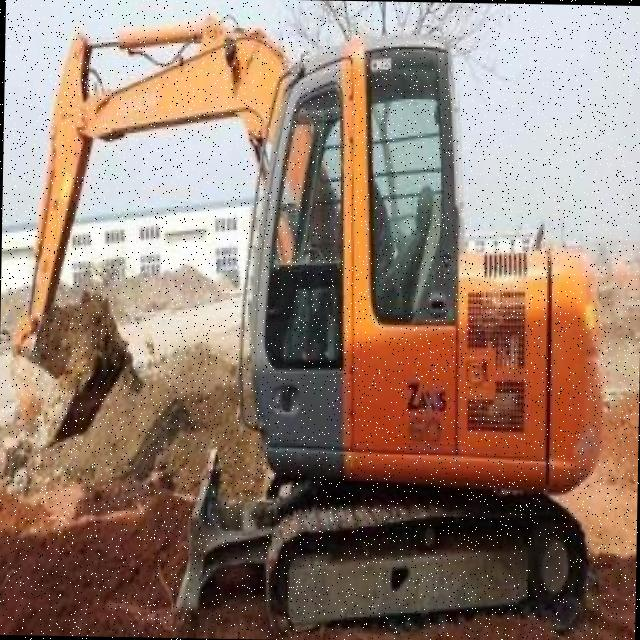Excavator: (0, 8, 606, 636)
